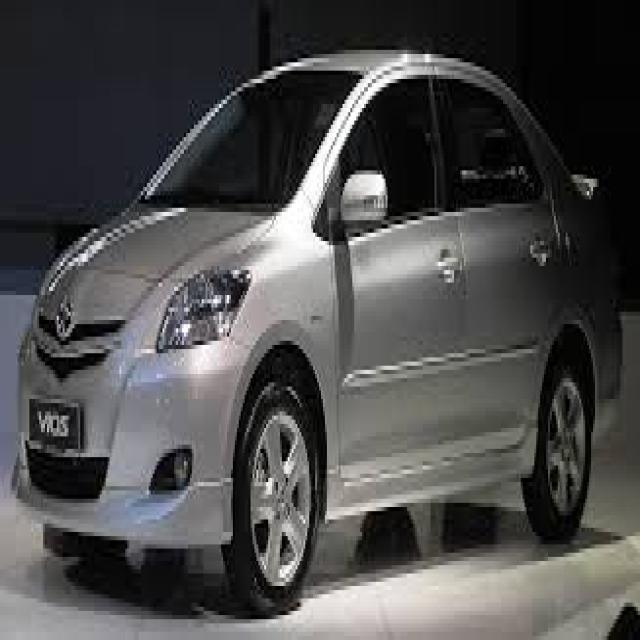ToyotaVios: (11, 46, 624, 618)
